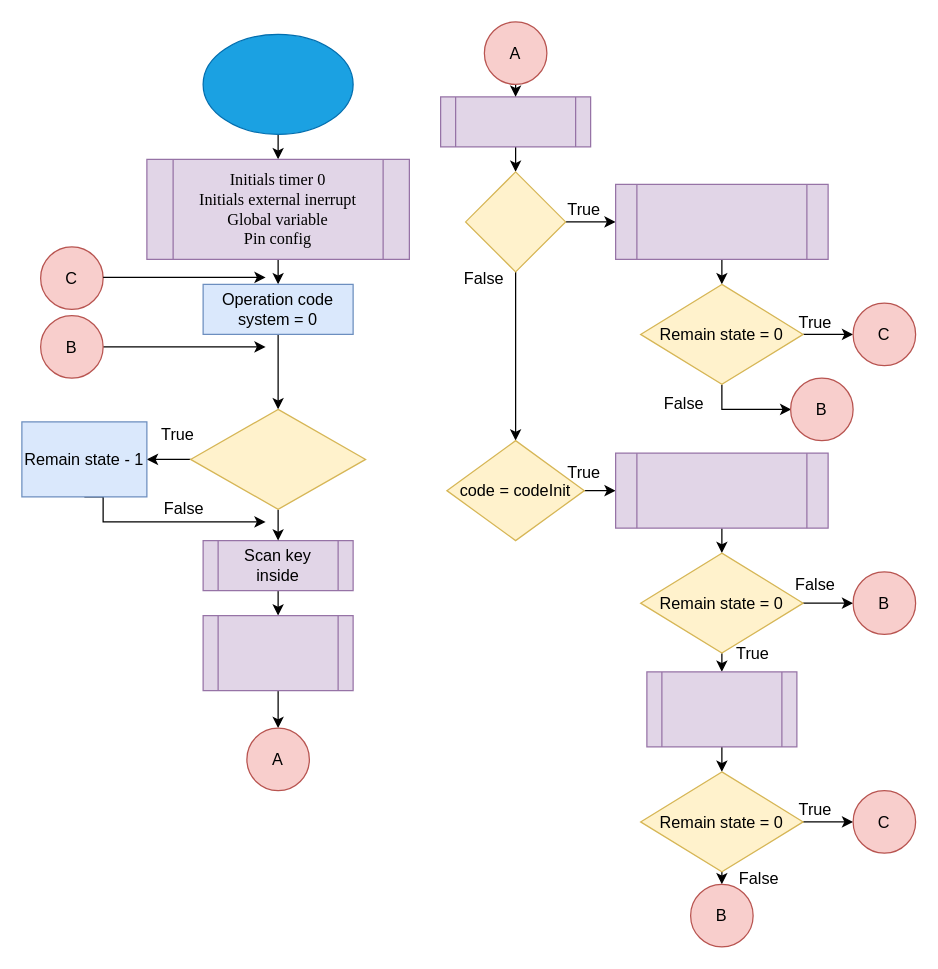
Image size: 938x969. Some labels were removed from this diagram. The shapes that lost their labels are listed below. From the top down, each one's centre as x and y in pixels, then its label:
At (x=277, y=83): "START".
At (x=515, y=121): "Scan key outside".
At (x=515, y=221): "key = '#'".
At (x=721, y=221): "Normal request state Remain state = 3".
At (x=277, y=458): "flag overflow timer 0".
At (x=721, y=490): "Emergency request state Remain state = 30".
At (x=277, y=652): "Operation User interface LCD".
At (x=721, y=709): "Door fail Remain state = 5".
